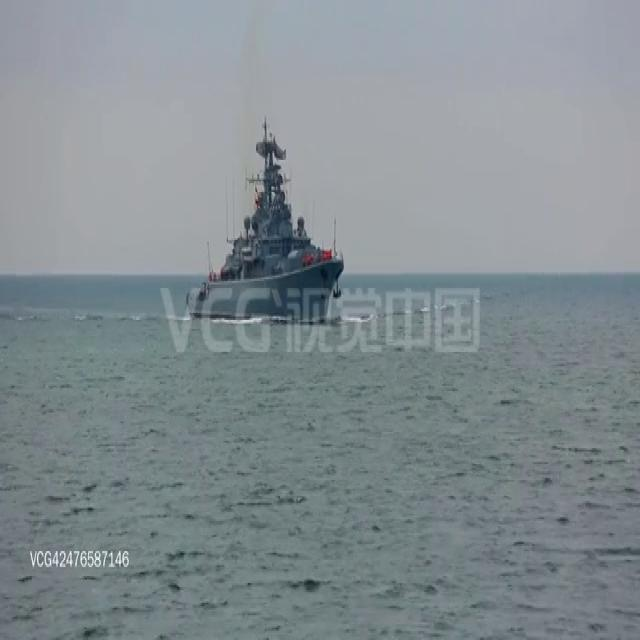navalvessels: (184, 103, 343, 321)
